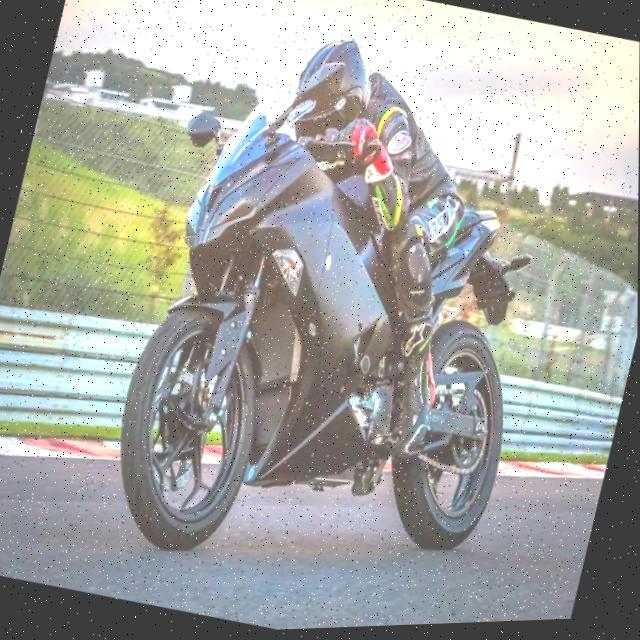motorcycle: (81, 62, 584, 628)
